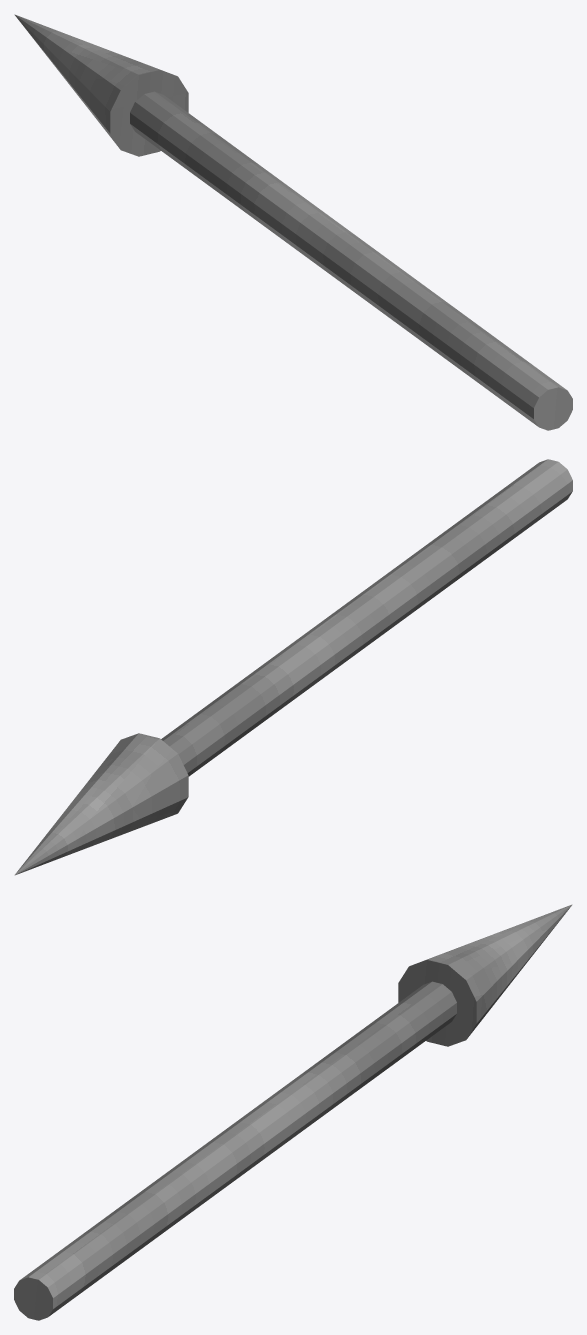
Rendered from BallistaBolt.obj.
3 renders of one model, top to bottom at view 1: azimuth 30°, elevation 25°; view 2: azimuth 150°, elevation 25°; view 3: azimuth 330°, elevation 25°, orthographic.
Visible parts, largest first — view 1: cylinder, cone; view 2: cylinder, cone; view 3: cylinder, cone.
Boxes of the visible parts, box(x1,y1,x2,y2) form: cylinder: box(130, 91, 572, 430); cone: box(14, 14, 188, 156); cylinder: box(161, 459, 572, 776); cone: box(14, 733, 188, 875); cylinder: box(14, 981, 456, 1320); cone: box(398, 904, 572, 1046).
Bounding box in the file's own units: 0.125 × 0.125 × 1.49.
